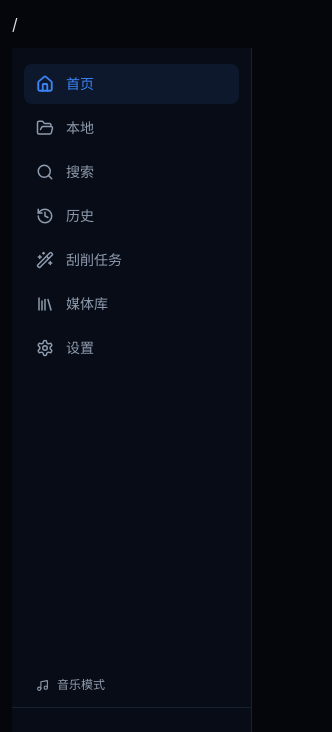
Test case: app mode navigation (QYP3-040) › switching to music mode swaps the nav group, navigates to /music and asks for the portrait window
The width and height of the screenshot is (332, 732).
Click the button "音乐模式" at (132, 685), box [24,671,239,699]
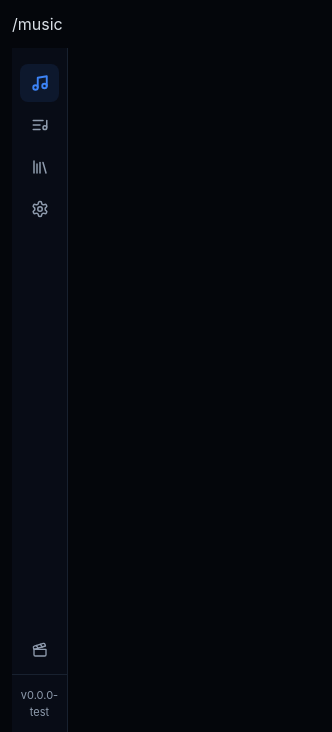
expect the button named "歌单" is shown: met, box [20,106,59,144]
expect the button named "媒体库" is shown: met, box [20,148,59,186]
expect the button "首页" is gone: met
